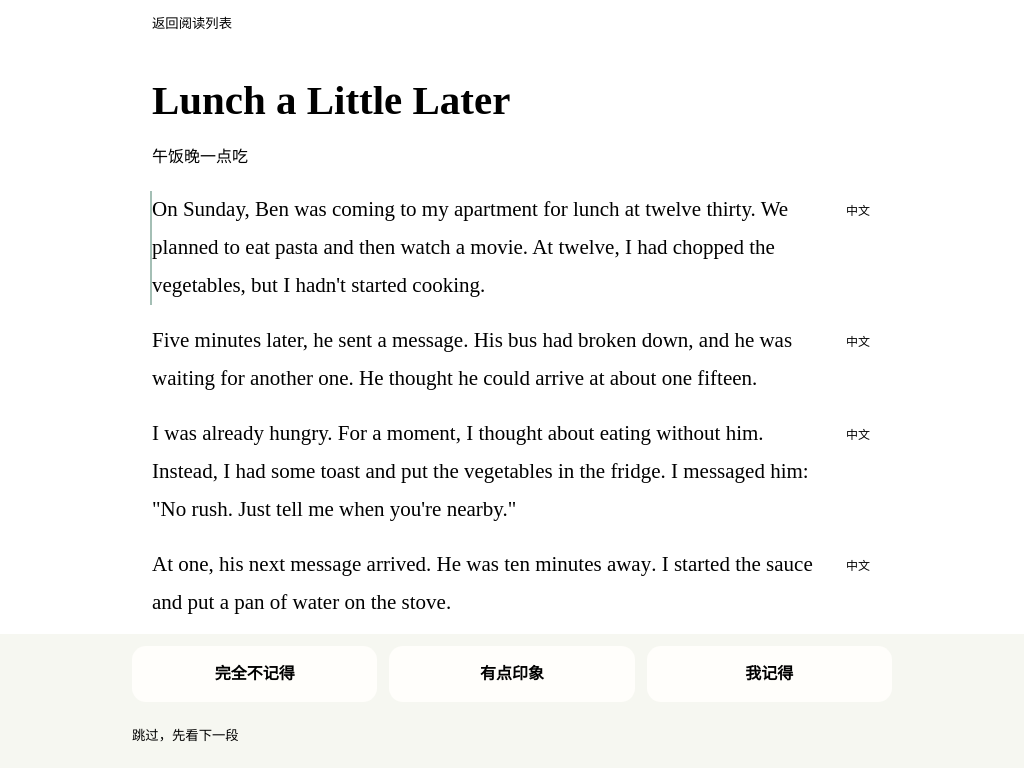
Test: uses paragraph copy on readings even if App still passes 下一句
The image size is (1024, 768).
Expected: the element with class "doli-recall" is shown, [132,646,892,756]
Click the button "跳过，先看下一段" at (185, 734), box [132,712,239,756]
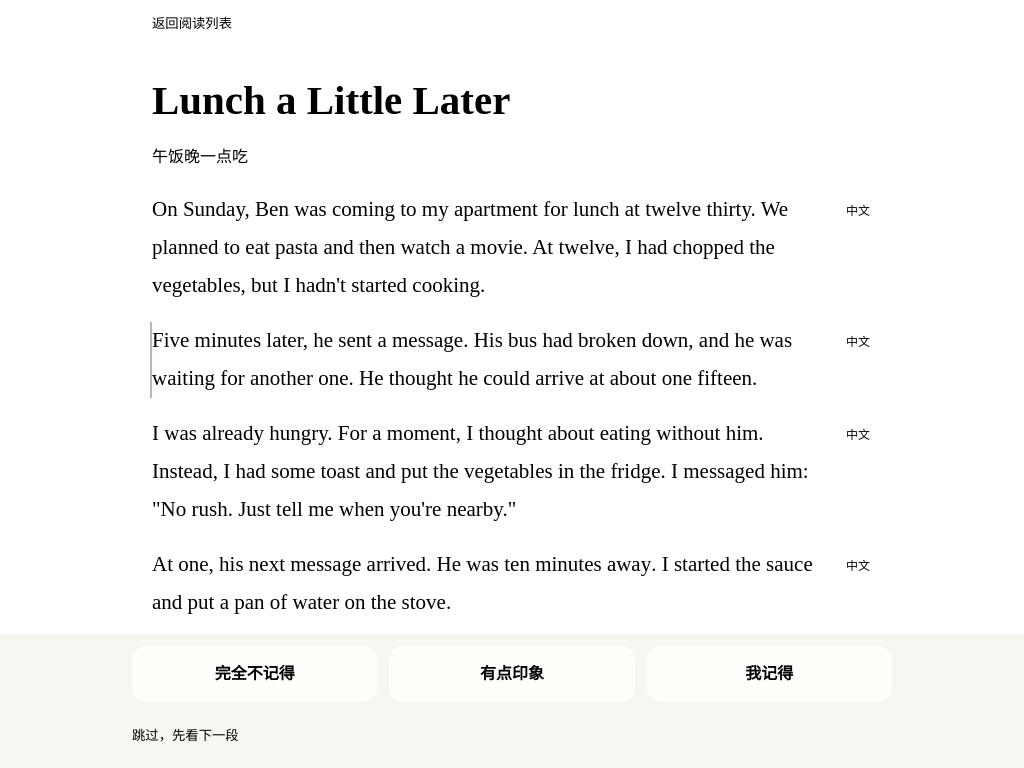
Click the button "跳过，先看下一段" at (185, 734), box [132,712,239,756]
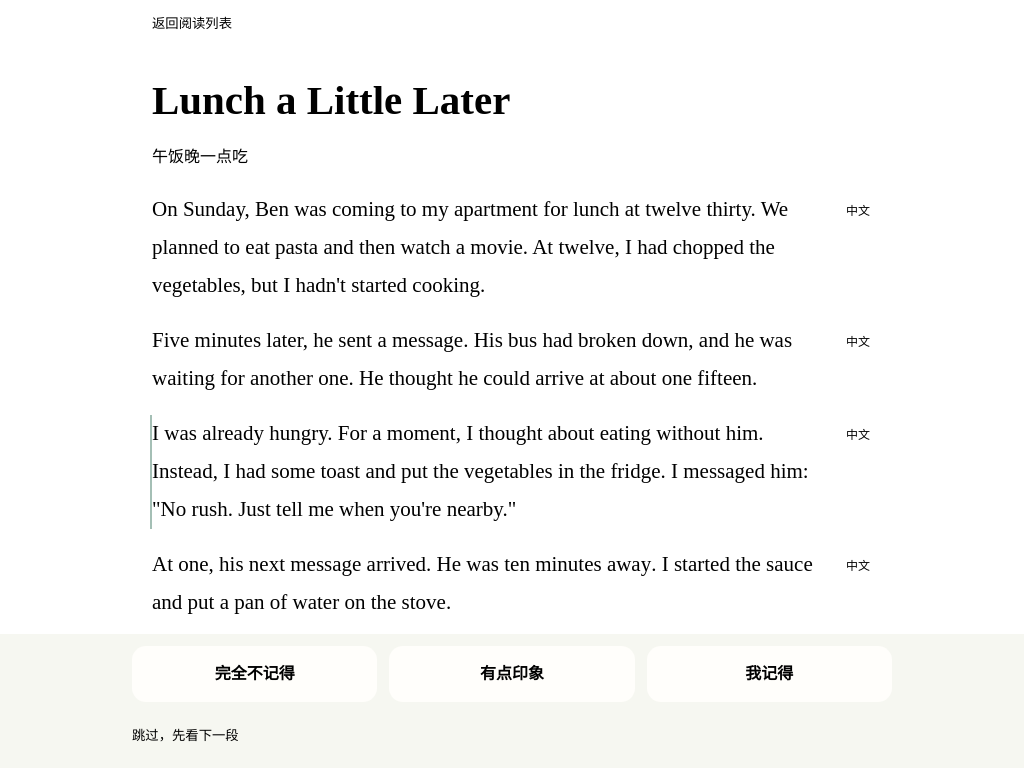
Click the button "跳过，先看下一段" at (185, 734), box [132,712,239,756]
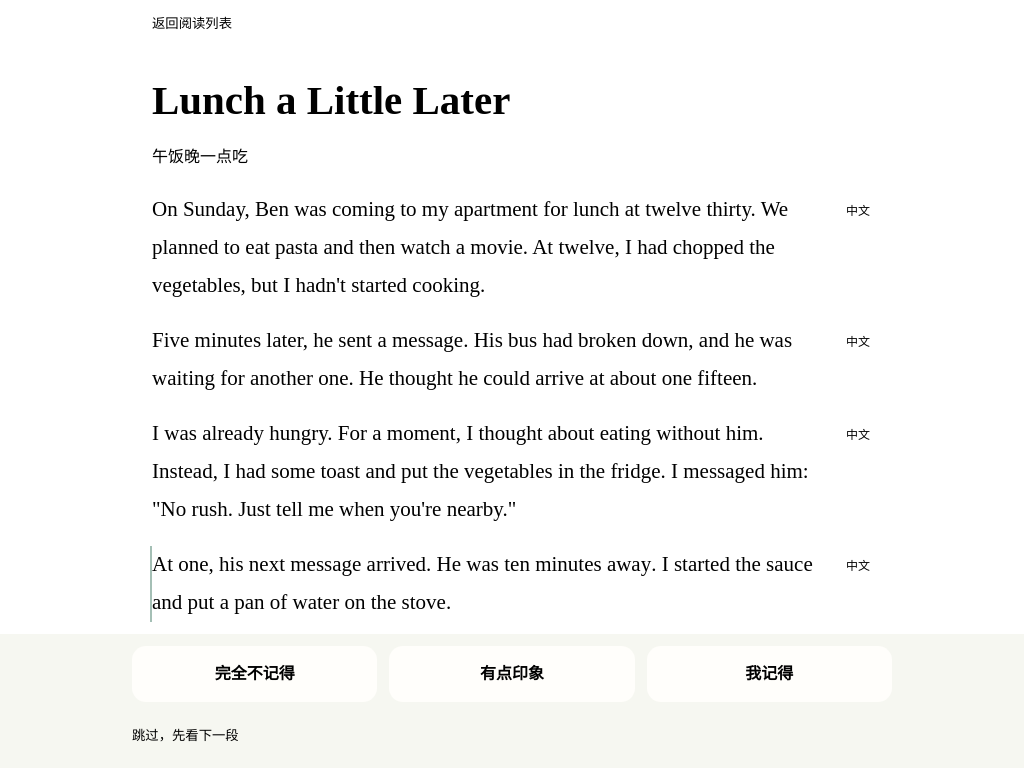
Click the button "跳过，先看下一段" at (185, 734), box [132,712,239,756]
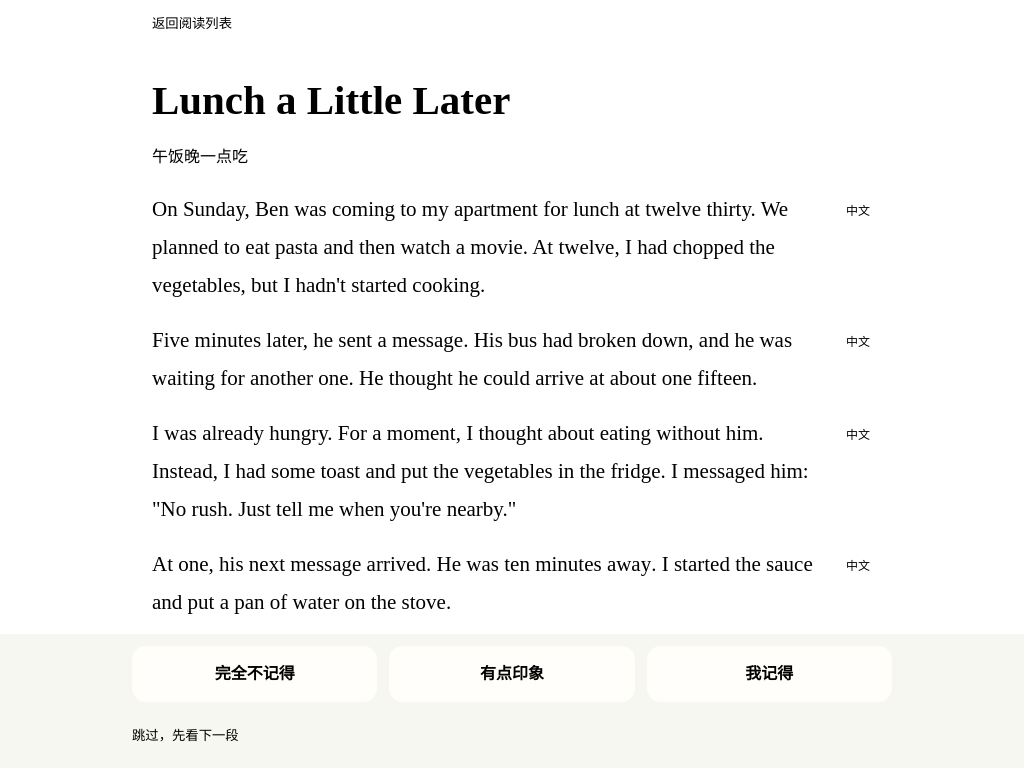
Click the button "跳过，先看下一段" at (185, 734), box [132,712,239,756]
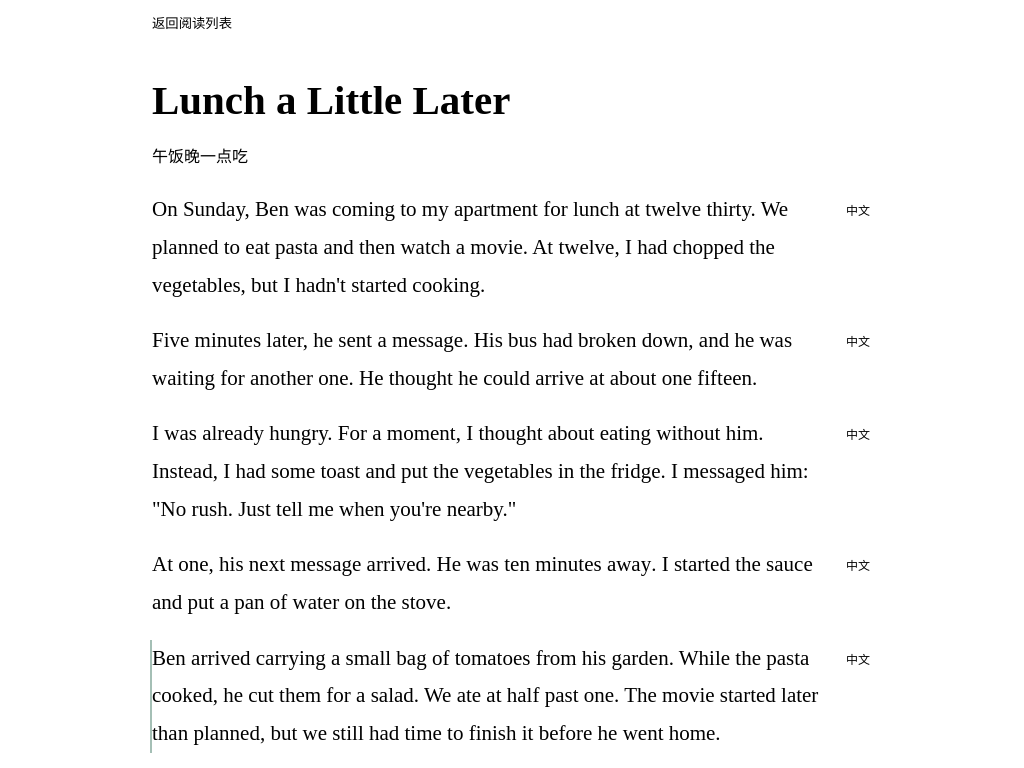
Expected: the heading "Lunch a Little Later" is shown, [152,77,510,123]
Expected: the element with class "doli-recall-dock" is gone
